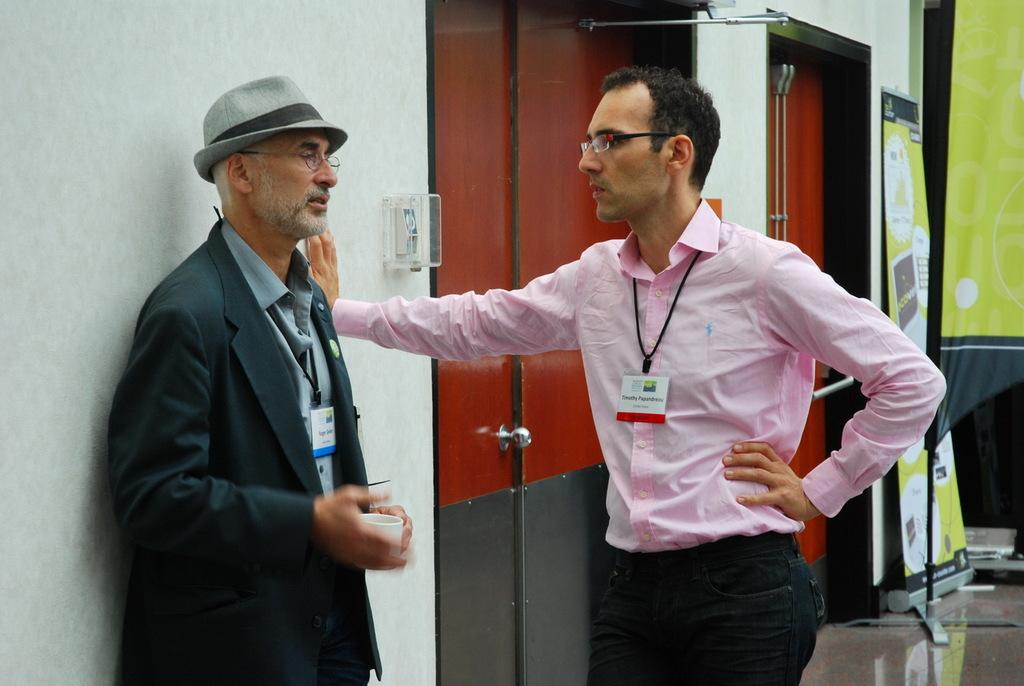Hat: (193, 73, 351, 184)
